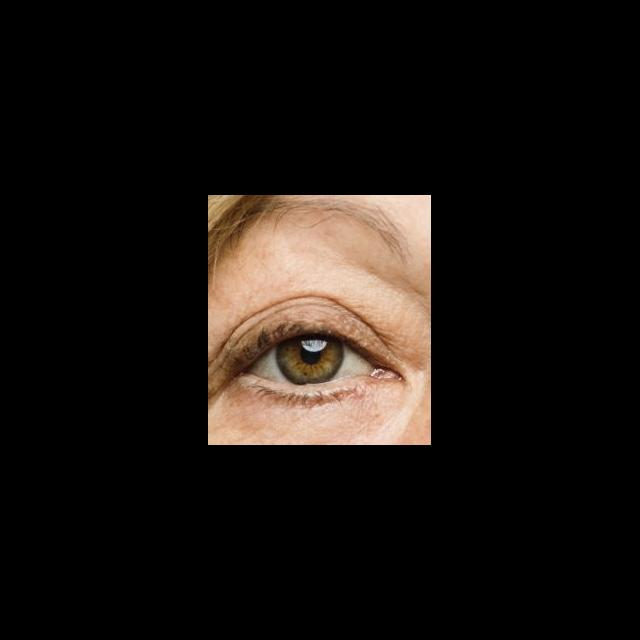eye: (247, 333, 371, 385)
iris: (278, 334, 343, 384)
